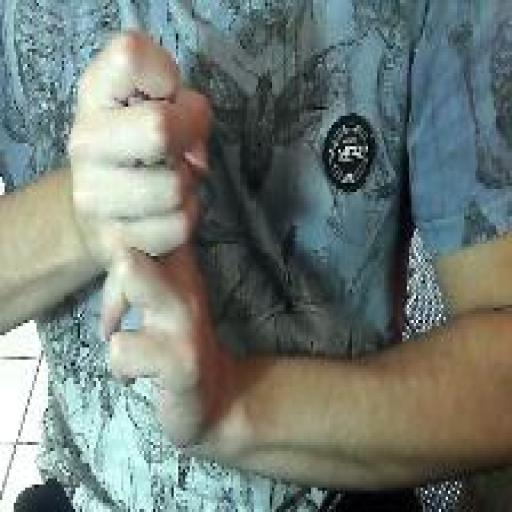Ne -rat-: (64, 23, 222, 452)
